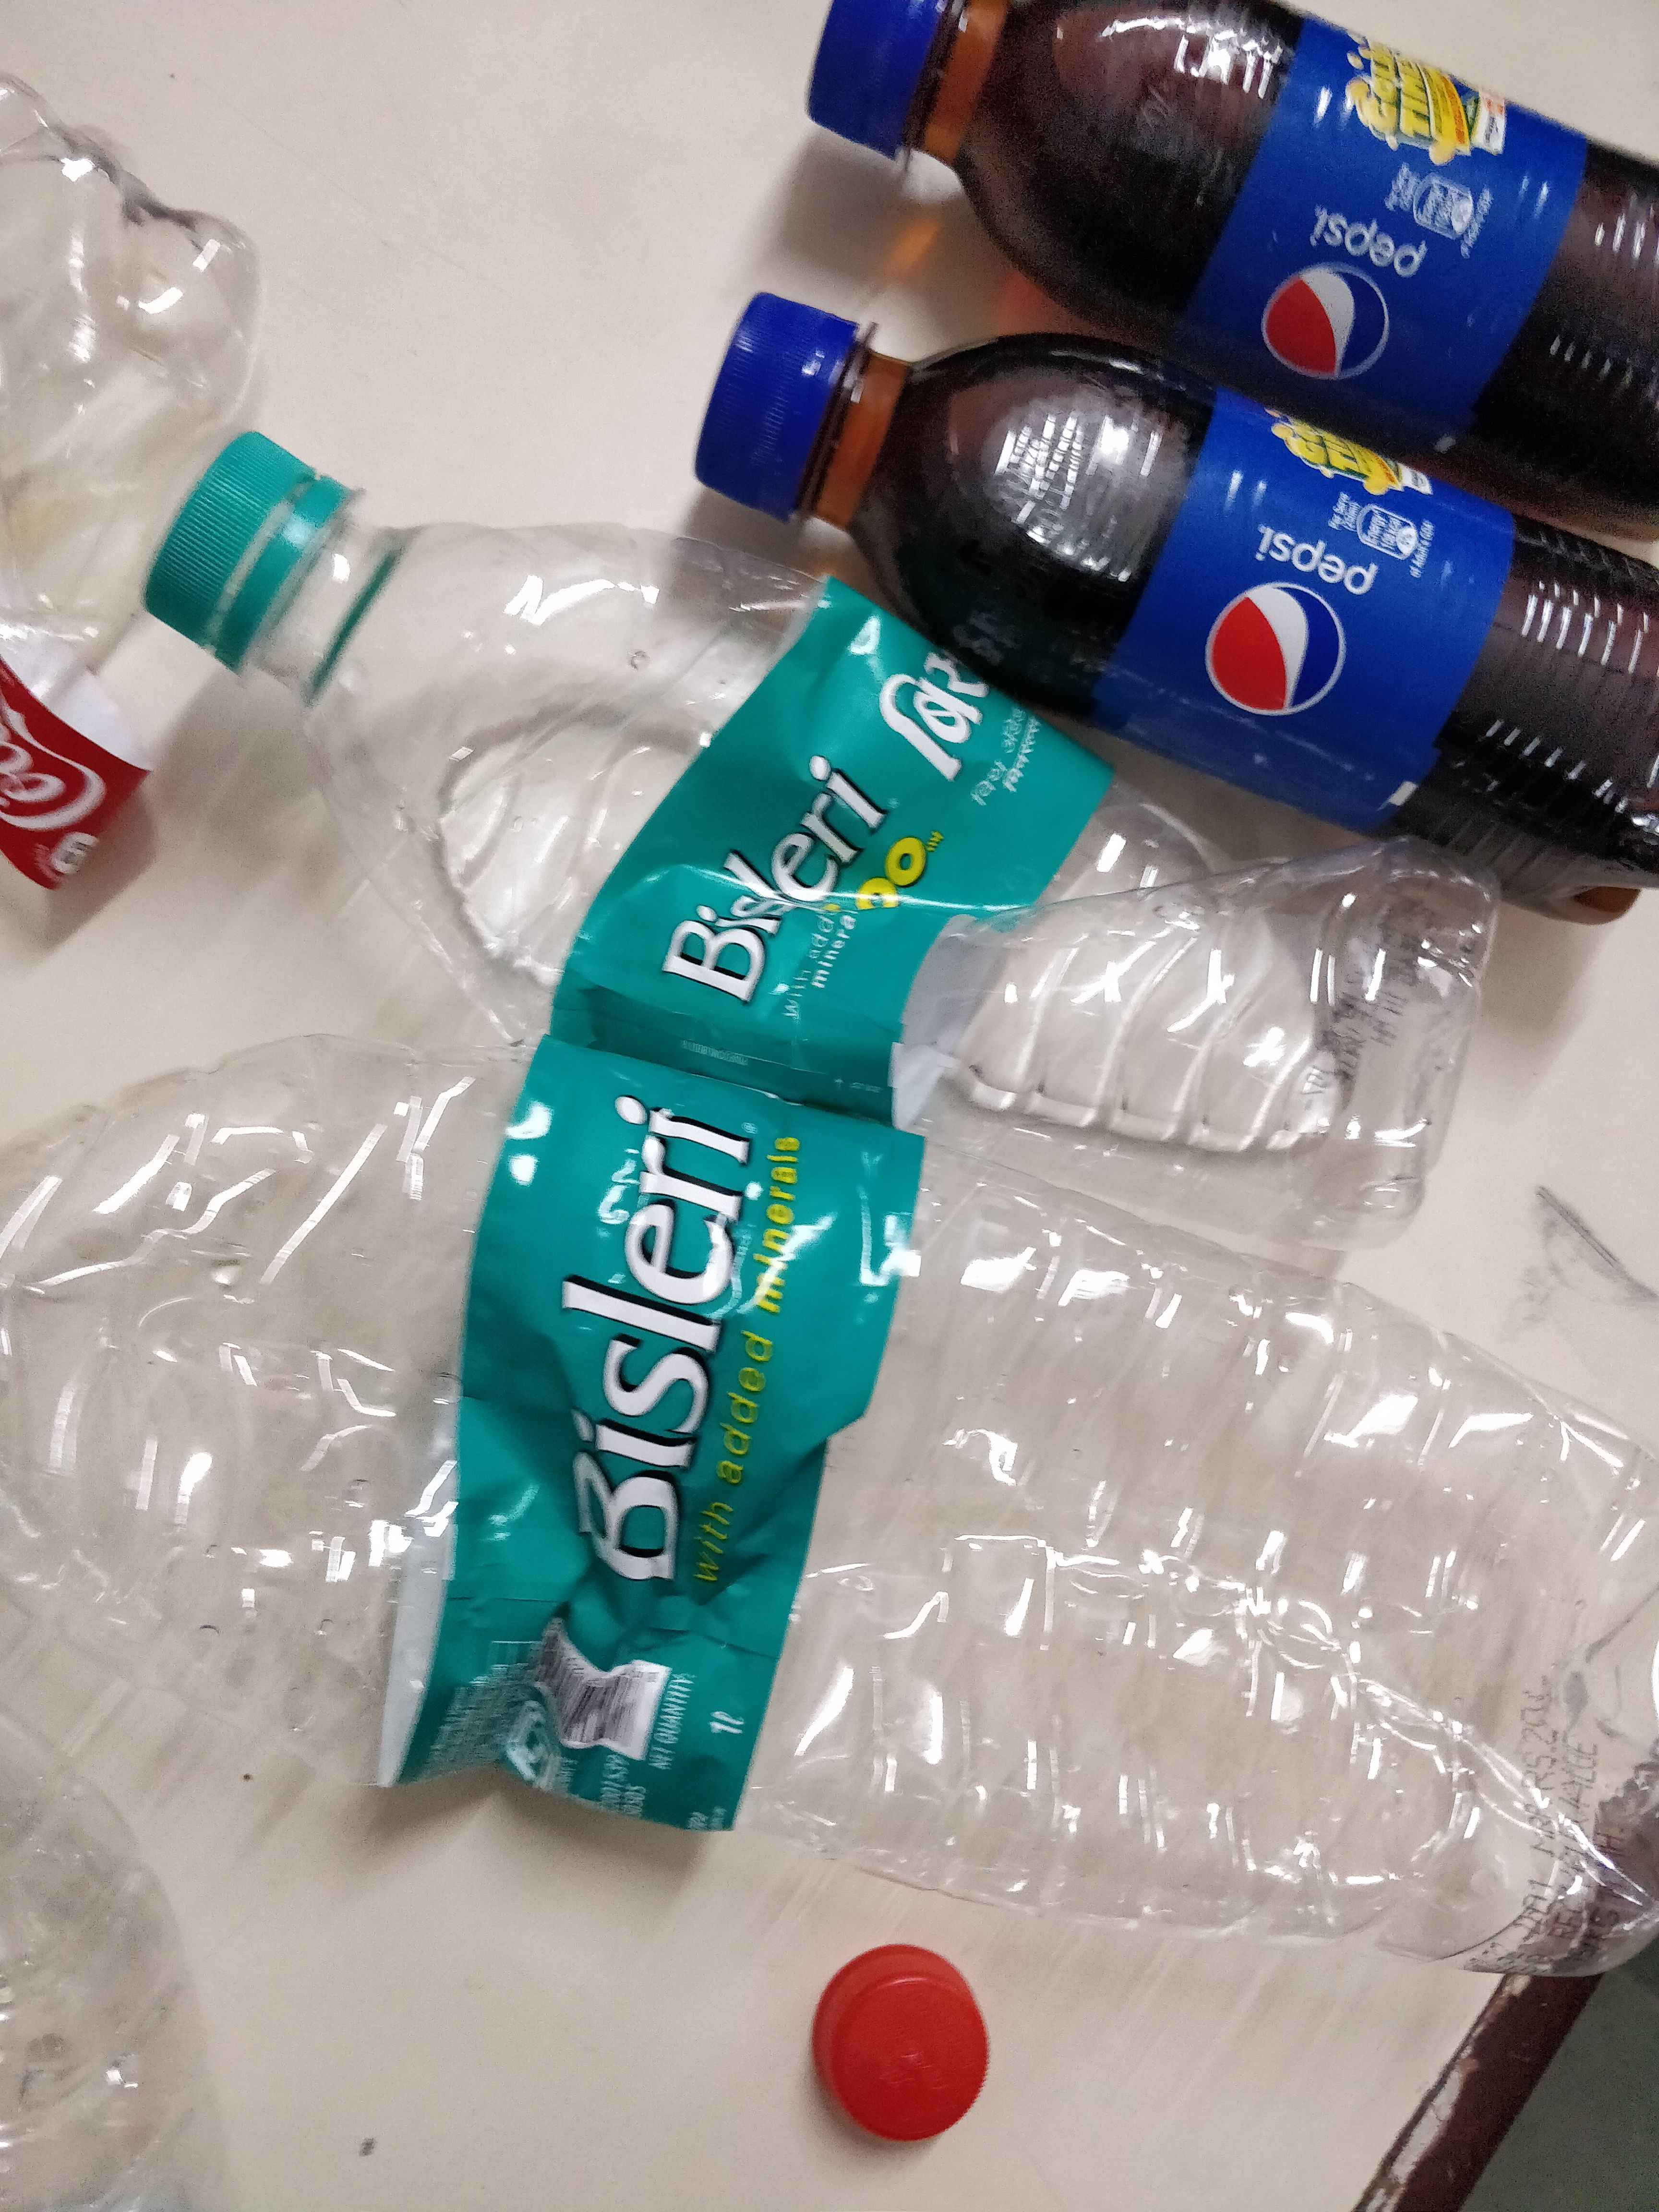Bisleri: (521, 1052, 765, 1792), (634, 648, 1000, 1019), (1173, 453, 1432, 716), (1248, 199, 1478, 390)
Coca-Cola: (0, 723, 117, 867)
